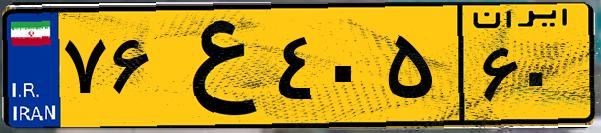0: (330, 28, 385, 110), (525, 38, 570, 115)
4: (270, 28, 330, 110)
5: (385, 28, 445, 110)
6: (475, 38, 525, 113), (110, 28, 158, 98)
7: (57, 26, 110, 100)
ع: (158, 12, 270, 120)
